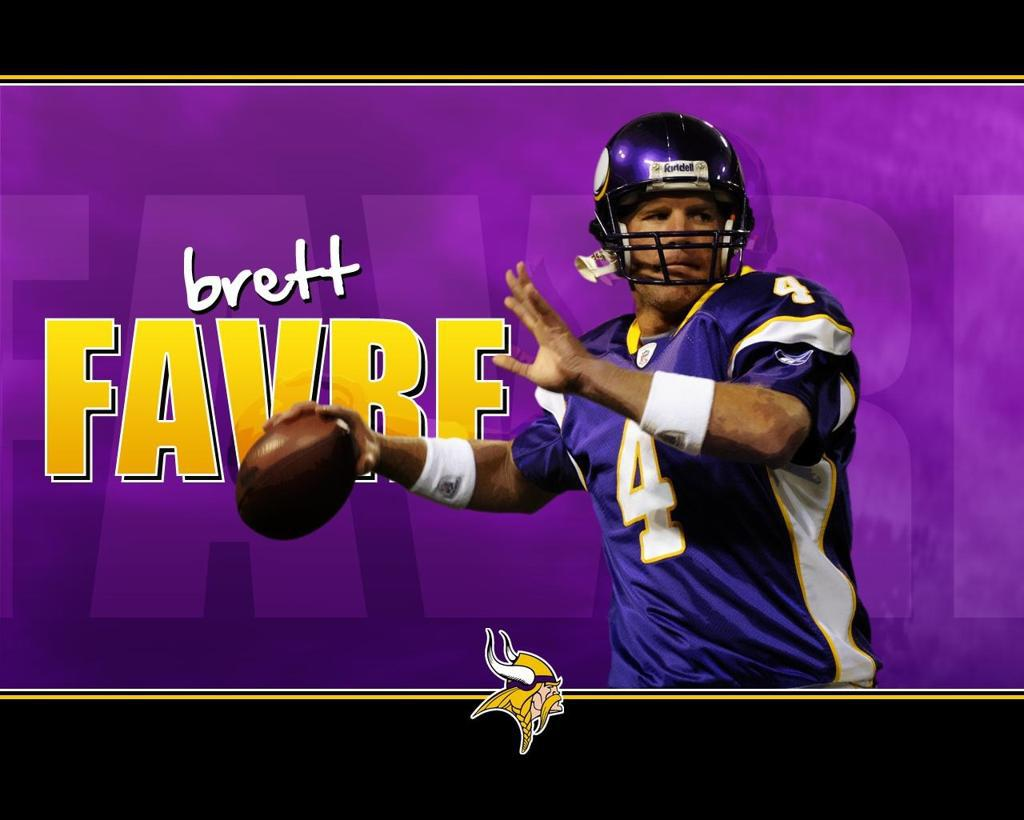face: (625, 161, 733, 305)
